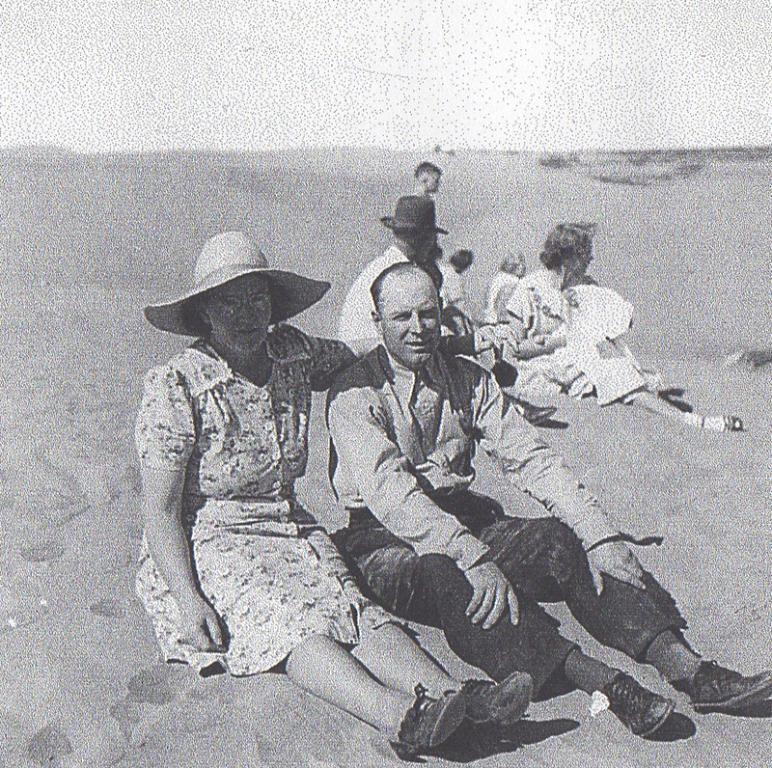Hat: (144, 232, 328, 339), (386, 192, 451, 234)
